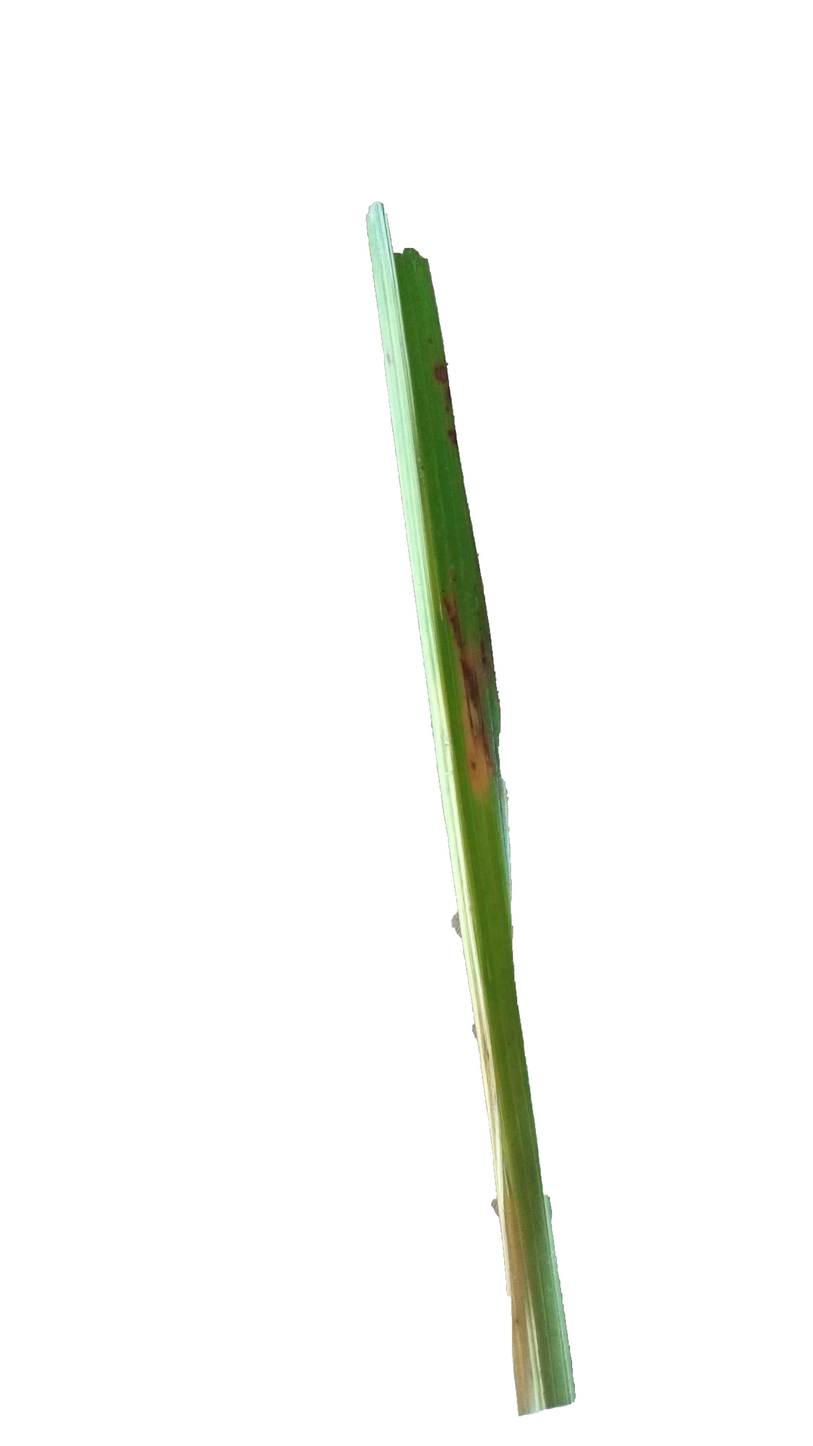Rice blast: (441, 577, 511, 768)
